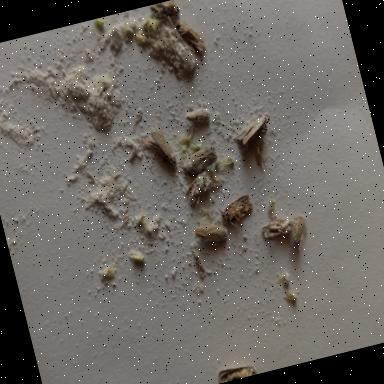pbw: (248, 116, 282, 173), (136, 128, 178, 174), (186, 216, 230, 252), (216, 195, 256, 231), (179, 144, 221, 176), (180, 169, 214, 207), (176, 18, 208, 57), (254, 212, 296, 241), (288, 210, 314, 250), (216, 362, 258, 383), (148, 0, 181, 21), (182, 106, 212, 126)
